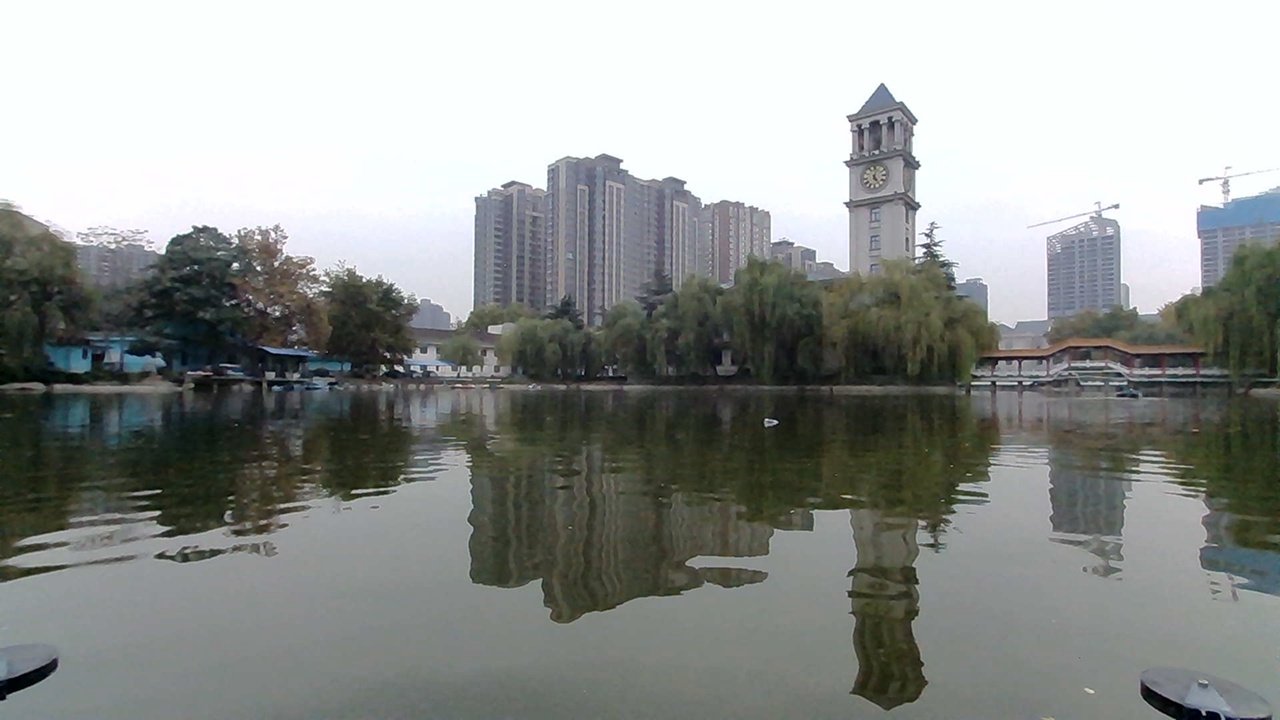bottle: (743, 405, 782, 435)
